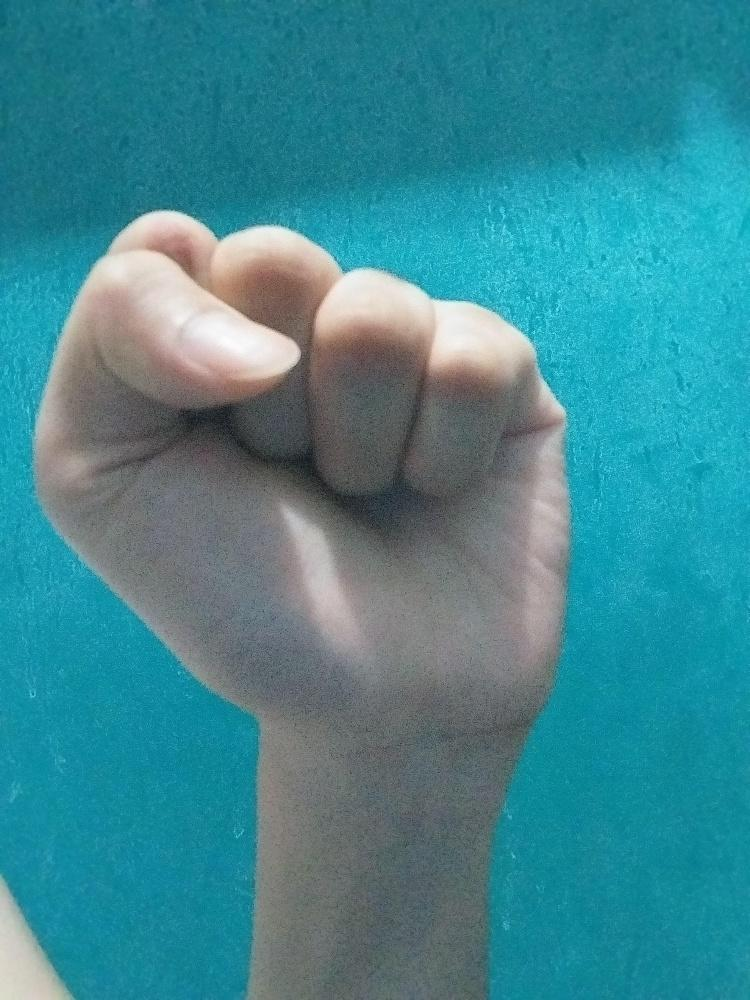s: (31, 206, 577, 745)
